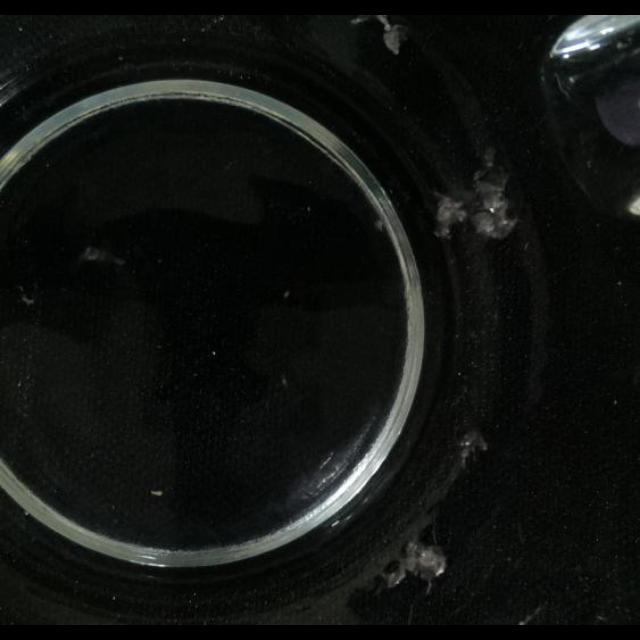Fibre: (427, 150, 517, 242), (376, 536, 448, 592), (352, 15, 408, 56), (16, 285, 36, 305)
Film: (81, 246, 127, 268)
microbeads: (280, 374, 288, 388), (150, 489, 163, 496)
